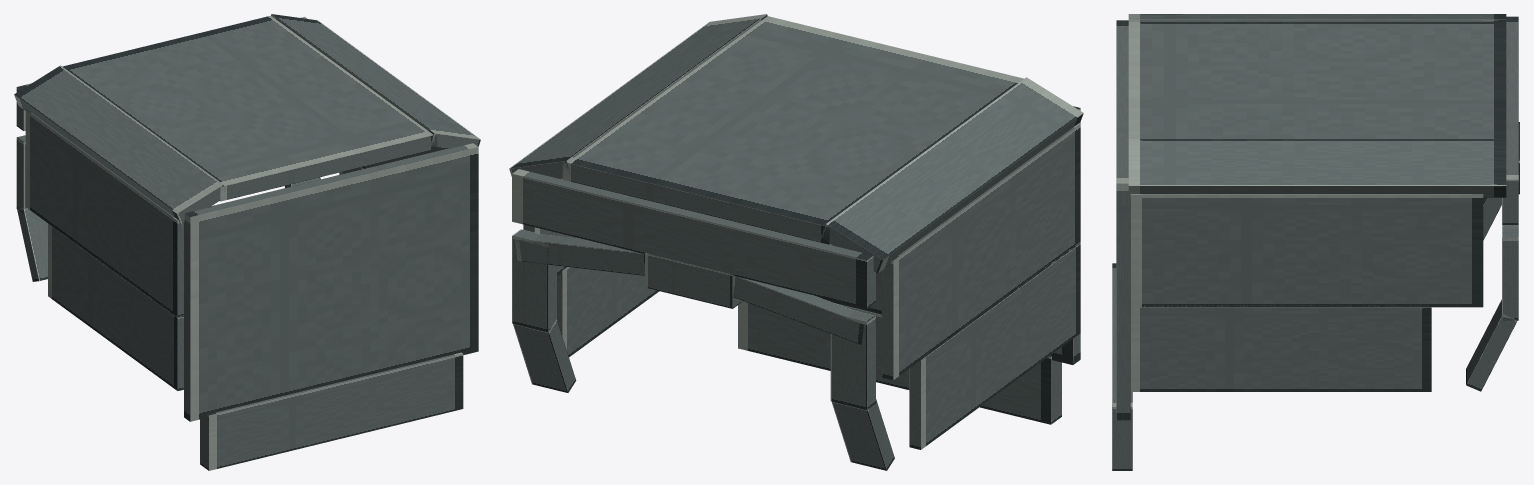
The model's file is workpiece_xuantie_helmet_shaped.obj.
3 views of the same model, side by side, from view 1: azimuth 30°, elevation 25°; view 2: azimuth 150°, elevation 25°; view 3: azimuth 270°, elevation 25° (orthographic). The views are drawn at different scales.
Visible parts, largest first — view 1: geometry; view 2: geometry; view 3: geometry.
Boxes of the visible parts, x1,y1,x2,y2 form: geometry: (14,14,480,470); geometry: (509,14,1083,470); geometry: (1112,14,1519,470).
Bounding box in the file's own units: 0.6127 × 0.5312 × 0.6144.
